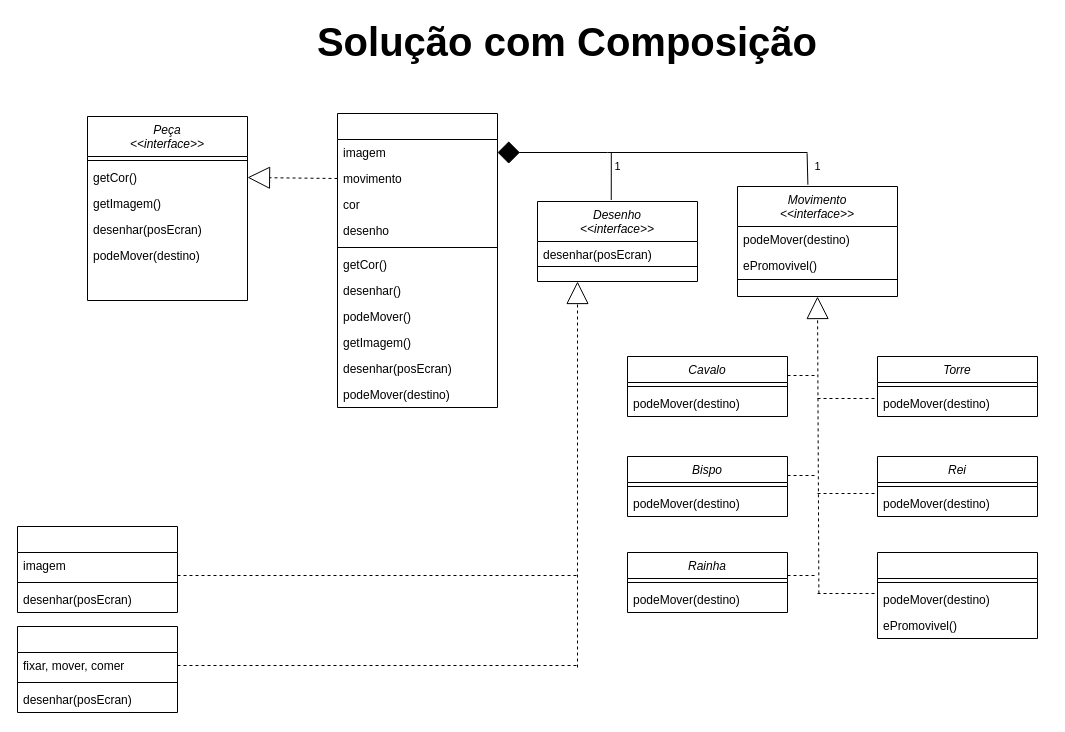
The diagram is 1065 pixels wide and 732 high, and some of its shapes have lost their labels. Each missing label, with the box of its shape:
Desenho1Imagen: (16, 526, 178, 612)
Desenho3Imagem: (16, 626, 178, 712)
Peao: (876, 552, 1038, 638)
PeçaDefault: (336, 112, 498, 408)
